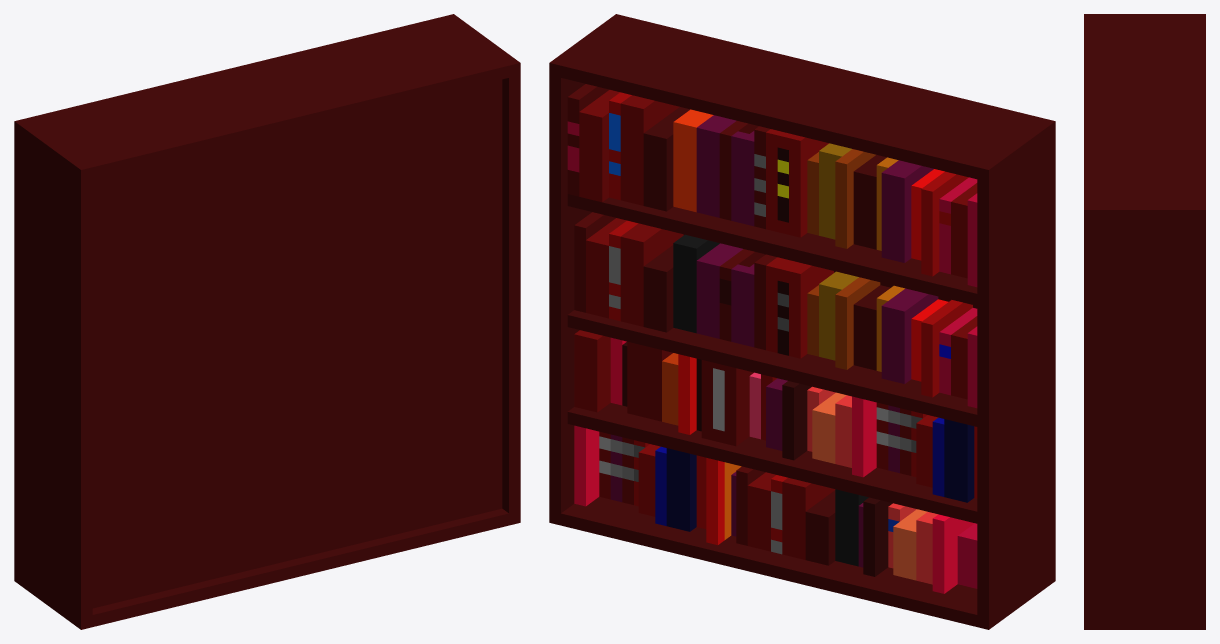
File: BookShelf.fbx
The picture shows the model from 3 angles, left to right: view 1: azimuth 30°, elevation 25°; view 2: azimuth 150°, elevation 25°; view 3: azimuth 270°, elevation 25°; orthographic projection. The views are drawn at different scales.
Visible parts, largest first — view 1: BookShelf; view 2: BookShelf; view 3: BookShelf.
Part boxes in pixels (<box>): BookShelf: <box>14,14,520,629</box>; BookShelf: <box>549,14,1055,629</box>; BookShelf: <box>1084,14,1205,629</box>.
Bounding box in the file's own units: 38 × 38 × 10.
1 material, 1 textured.
